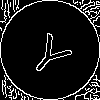Y: (25, 25, 80, 81)
